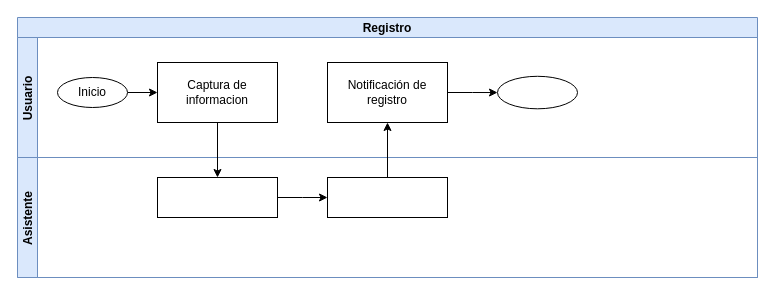
The diagram is 775 pixels wide and 295 high, and some of its shapes have lost their labels. The centre of each missing label's shape, as x and y in pixels:
"Aprovacion de solicitud" goes at point 387,197.
"Fin" goes at point 537,92.
"Validación de datos" goes at point 217,197.
